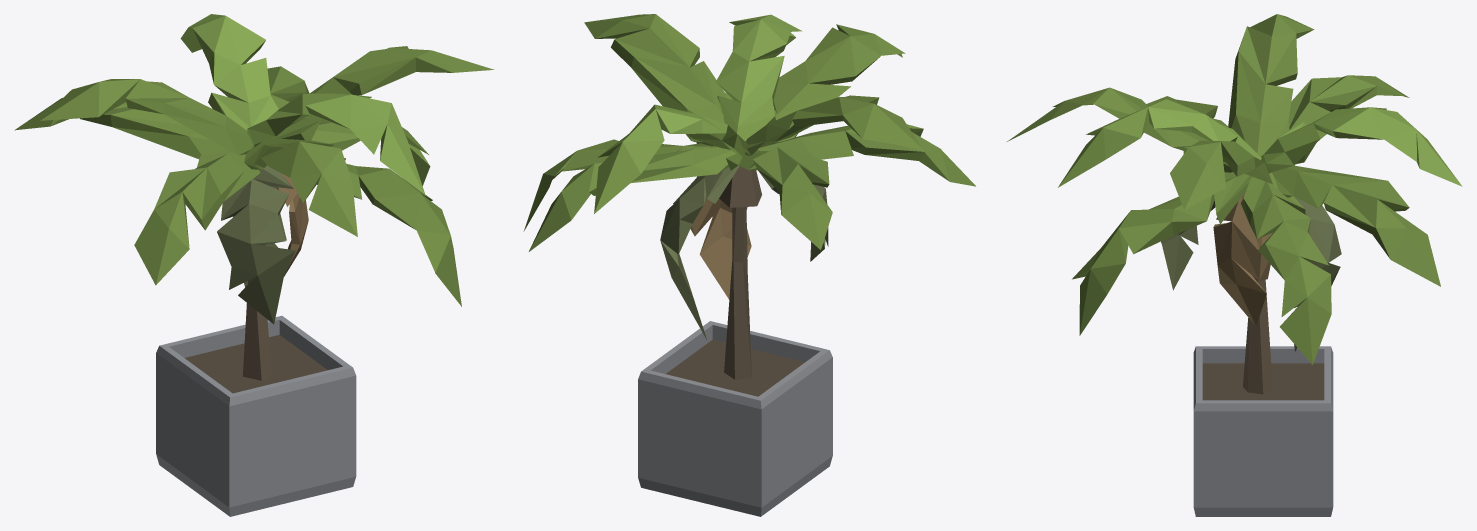
The model's file is SM_Prop_Plant_13.obj.
3 renders of one model, left to right at view 1: azimuth 30°, elevation 25°; view 2: azimuth 150°, elevation 25°; view 3: azimuth 270°, elevation 25°, orthographic. The views are drawn at different scales.
Parts seen in each view (by area): view 1: SM_Prop_Plant_13_M_PolygonOffice_01_A; view 2: SM_Prop_Plant_13_M_PolygonOffice_01_A; view 3: SM_Prop_Plant_13_M_PolygonOffice_01_A.
Boxes of the visible parts, bbox=[...] form: SM_Prop_Plant_13_M_PolygonOffice_01_A: bbox=[14, 14, 494, 516]; SM_Prop_Plant_13_M_PolygonOffice_01_A: bbox=[523, 14, 975, 516]; SM_Prop_Plant_13_M_PolygonOffice_01_A: bbox=[1007, 14, 1462, 516].
Size of the model in its own units: 1.38 by 1.4 by 1.43.
1 material, 1 textured.
